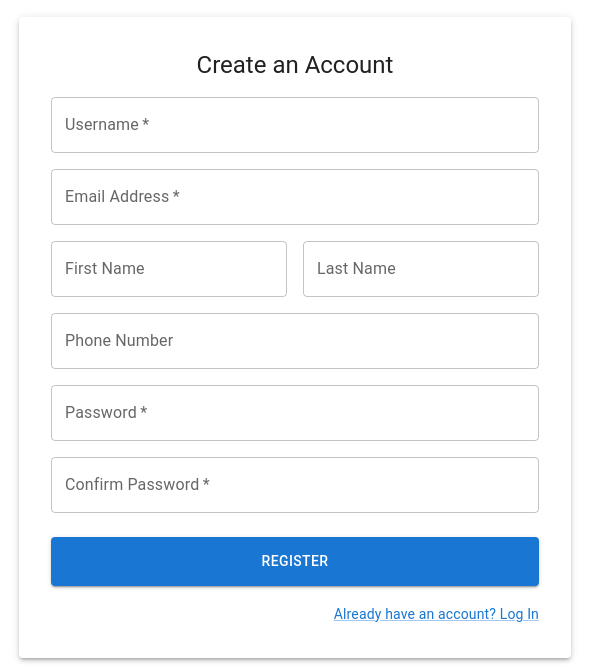
Test: RegisterPage Component › password and confirm password validation: mismatch
Type "testuser" into the field labelled "Username *" at (295, 125), box [51,97,539,153]
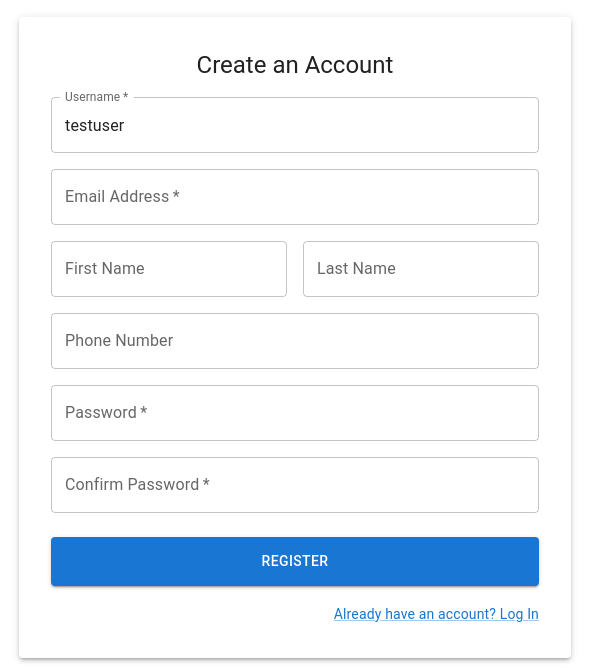
Type "test@example.com" into the field labelled "Email Address *" at (295, 197), box [51,169,539,225]
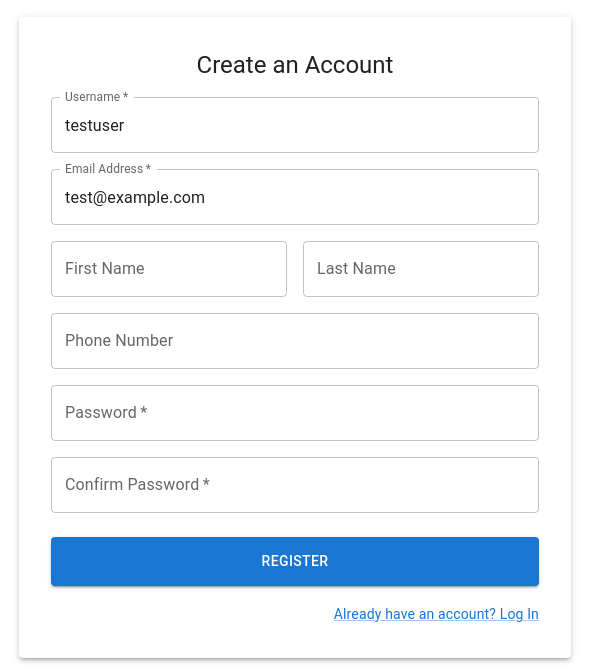
Type "password123" into the password field labelled "Password *" at (295, 413), box [51,385,539,441]
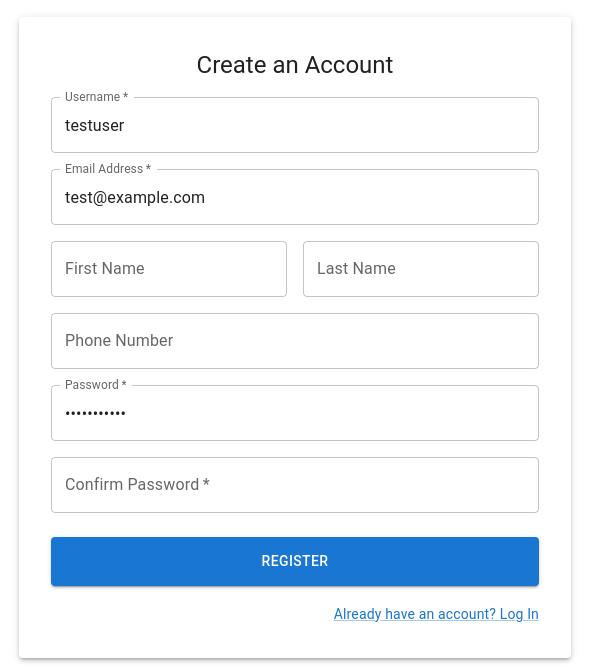
Type "password456" into the password field labelled "Confirm Password *" at (295, 485), box [51,457,539,513]
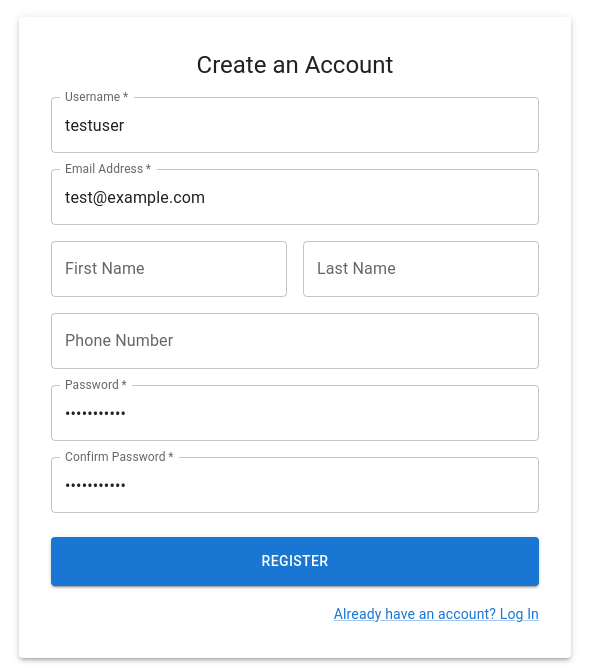
Click the button "Register" at (295, 562), box [51,537,539,586]
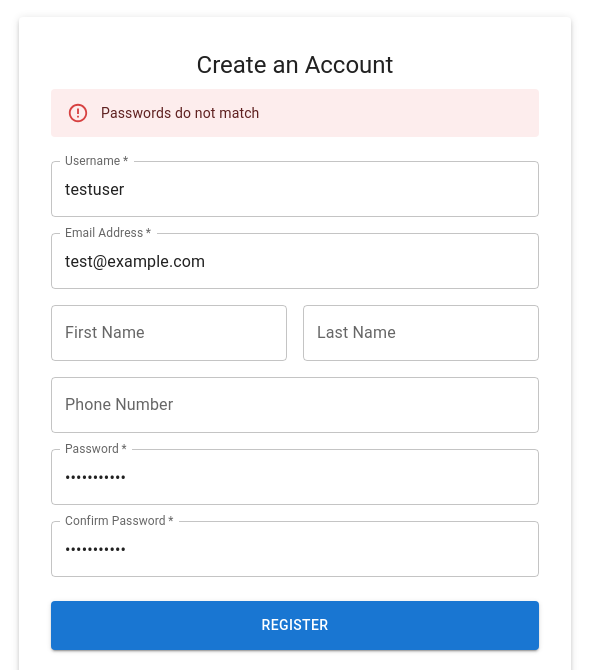
Now the message reads "Passwords do not match", box [101,105,260,121]
